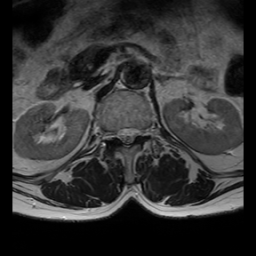CCS_normal: (124, 120, 131, 153)
LFS_normal: (138, 120, 147, 143)
LLS_normal: (131, 119, 138, 146)
RFS_stenosis: (108, 122, 116, 148)
RLS_normal: (116, 120, 124, 147)
